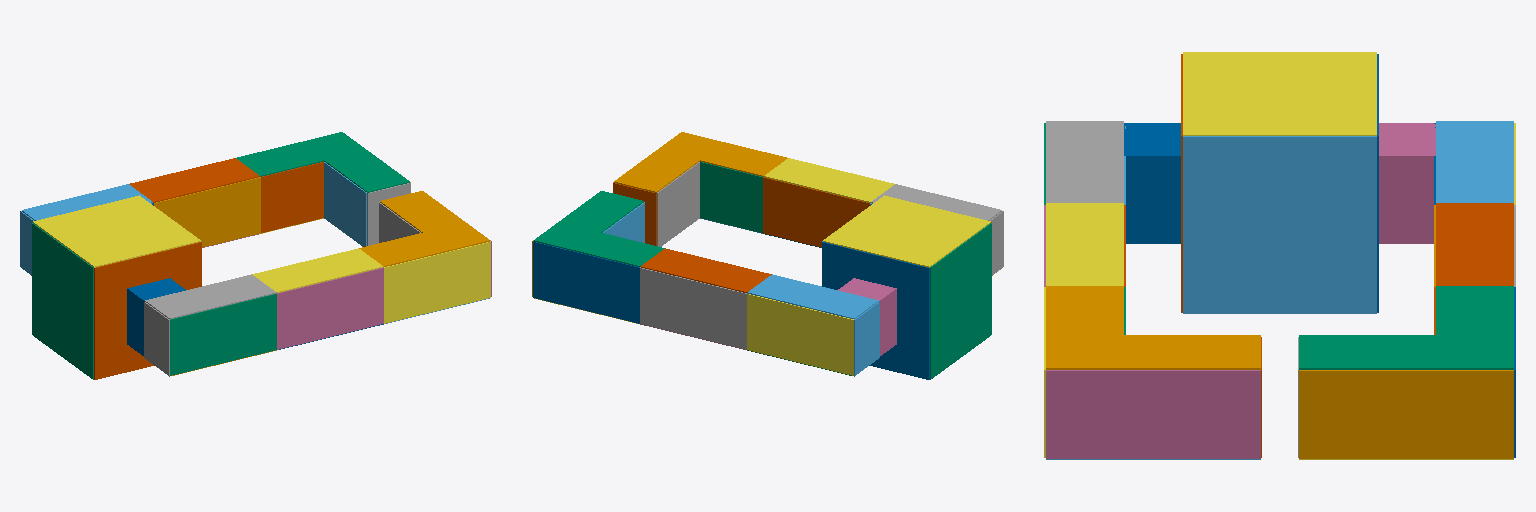
--- Render facts (derived) ---
3 views of the same robot in one strip: view 1: azimuth 30°, elevation 25°; view 2: azimuth 150°, elevation 25°; view 3: azimuth 270°, elevation 25° (orthographic).
Model robot with 72 links and 71 joints (2 continuous, 69 fixed), rooted at body, posed all joints at 0.
Visible links, largest first — view 1: body_sensor_0_stop, body_sensor_0_right, body_sensor_0_top, right_arm_sensor_0_right, right_arm_sensor_1_right, right_arm_sensor_2_right, left_arm_sensor_1_right, left_arm_sensor_2_right, right_arm_sensor_0_top, right_arm_sensor_2_top, left_arm_sensor_1_top, right_arm_sensor_1_top (+10 smaller); view 2: body_sensor_0_stop, body_sensor_0_left, body_sensor_0_top, left_arm_sensor_0_left, left_arm_sensor_1_left, left_arm_sensor_2_left, right_arm_sensor_1_left, right_arm_sensor_2_left, left_arm_sensor_0_top, left_arm_sensor_2_top, left_arm_sensor_1_top, right_arm_sensor_1_top (+10 smaller); view 3: body_sensor_0_start, body_sensor_0_top, left_hand_sensor_0_top, right_hand_sensor_0_top, left_arm_sensor_0_start, right_arm_sensor_0_start, left_shoulder, right_shoulder, left_arm_sensor_2_top, right_arm_sensor_2_top, left_arm_sensor_1_top, right_arm_sensor_1_top (+4 smaller).
Link boxes in pixels (bbox=[...]): body_sensor_0_stop: bbox=[32, 223, 93, 379]; body_sensor_0_right: bbox=[94, 242, 201, 379]; body_sensor_0_top: bbox=[33, 195, 200, 267]; right_arm_sensor_0_right: bbox=[170, 294, 276, 375]; right_arm_sensor_1_right: bbox=[277, 267, 383, 349]; right_arm_sensor_2_right: bbox=[384, 241, 490, 323]; left_arm_sensor_1_right: bbox=[154, 177, 260, 247]; left_arm_sensor_2_right: bbox=[261, 162, 323, 232]; right_arm_sensor_0_top: bbox=[145, 274, 276, 318]; right_arm_sensor_2_top: bbox=[359, 222, 489, 266]; left_arm_sensor_1_top: bbox=[129, 158, 259, 202]; right_arm_sensor_1_top: bbox=[252, 248, 383, 292]; body_sensor_0_stop: bbox=[930, 223, 991, 379]; body_sensor_0_left: bbox=[822, 242, 929, 379]; body_sensor_0_top: bbox=[823, 195, 990, 267]; left_arm_sensor_0_left: bbox=[747, 294, 853, 375]; left_arm_sensor_1_left: bbox=[640, 267, 746, 349]; left_arm_sensor_2_left: bbox=[533, 241, 639, 323]; right_arm_sensor_1_left: bbox=[763, 177, 869, 247]; right_arm_sensor_2_left: bbox=[700, 162, 762, 232]; left_arm_sensor_0_top: bbox=[747, 274, 878, 318]; left_arm_sensor_2_top: bbox=[534, 222, 664, 266]; left_arm_sensor_1_top: bbox=[640, 248, 771, 292]; right_arm_sensor_1_top: bbox=[764, 158, 894, 202]; body_sensor_0_start: bbox=[1183, 136, 1376, 313]; body_sensor_0_top: bbox=[1183, 52, 1376, 135]; left_hand_sensor_0_top: bbox=[1299, 370, 1435, 458]; right_hand_sensor_0_top: bbox=[1124, 370, 1260, 458]; left_arm_sensor_0_start: bbox=[1436, 370, 1513, 458]; right_arm_sensor_0_start: bbox=[1046, 370, 1123, 458]; left_shoulder: bbox=[1379, 123, 1435, 243]; right_shoulder: bbox=[1124, 123, 1180, 243]; left_arm_sensor_2_top: bbox=[1436, 286, 1513, 369]; right_arm_sensor_2_top: bbox=[1046, 286, 1123, 369]; left_arm_sensor_1_top: bbox=[1436, 203, 1513, 285]; right_arm_sensor_1_top: bbox=[1046, 203, 1123, 285].
Bounding box of the posed robot: 3.32 × 2.42 × 1.01 m (x, y, z).
Geometry: primitives only (box / cylinder / sphere), no mesh files.

URDF robot description (robot):
<?xml version="1.0"?>
<robot name="robot">


    <!-- body -->
    <link name="body">
        <inertial>
            <origin xyz="0 0 0" rpy="0 0 0"/>
            <mass value="100"/>
            <inertia ixx=".1" ixy=".1" ixz=".1" iyy=".1" iyz=".1" izz=".1"/>
        </inertial>
        <visual>
            <origin xyz="0 0 0" rpy="0 0 0"/>
            <geometry>
                <box size="1 1 1"/>
            </geometry>
        </visual>
        <collision>
            <origin xyz="0 0 0" rpy="0 0 0"/>
            <geometry>
                <box size="1 1 1"/>
            </geometry>
        </collision>
    </link>


    <!-- body_sensor_0_start -->
    <link name="body_sensor_0_start">
        <inertial>
            <origin xyz="0 0 0" rpy="0 0 0"/>
            <mass value="0"/>
            <inertia ixx=".1" ixy=".1" ixz=".1" iyy=".1" iyz=".1" izz=".1"/>
        </inertial>
        <visual>
            <origin xyz="0 0 0" rpy="0 0 0"/>
            <geometry>
                <box size="0.02 1 1"/>
            </geometry>
        </visual>
        <collision>
            <origin xyz="0 0 0" rpy="0 0 0"/>
            <geometry>
                <box size="0.02 1 1"/>
            </geometry>
        </collision>
    </link>


    <!-- Joint: body, body_sensor_0_start -->
    <joint name="body_body_sensor_0_start_joint" type="fixed"> 
        <parent link="body"/> 
        <child link="body_sensor_0_start"/> 
        <origin xyz="0.5 0 0" rpy="0 0 0"/> 
        <axis xyz="1 0 0"/> 
    </joint>


    <!-- body_sensor_0_stop -->
    <link name="body_sensor_0_stop">
        <inertial>
            <origin xyz="0 0 0" rpy="0 0 0"/>
            <mass value="0"/>
            <inertia ixx=".1" ixy=".1" ixz=".1" iyy=".1" iyz=".1" izz=".1"/>
        </inertial>
        <visual>
            <origin xyz="0 0 0" rpy="0 0 0"/>
            <geometry>
                <box size="0.02 1 1"/>
            </geometry>
        </visual>
        <collision>
            <origin xyz="0 0 0" rpy="0 0 0"/>
            <geometry>
                <box size="0.02 1 1"/>
            </geometry>
        </collision>
    </link>


    <!-- Joint: body, body_sensor_0_stop -->
    <joint name="body_body_sensor_0_stop_joint" type="fixed"> 
        <parent link="body"/> 
        <child link="body_sensor_0_stop"/> 
        <origin xyz="-0.5 0 0" rpy="0 0 0"/> 
        <axis xyz="1 0 0"/> 
    </joint>


    <!-- body_sensor_0_top -->
    <link name="body_sensor_0_top">
        <inertial>
            <origin xyz="0 0 0" rpy="0 0 0"/>
            <mass value="0"/>
            <inertia ixx=".1" ixy=".1" ixz=".1" iyy=".1" iyz=".1" izz=".1"/>
        </inertial>
        <visual>
            <origin xyz="0 0 0" rpy="0 0 0"/>
            <geometry>
                <box size="1.0 1 0.02"/>
            </geometry>
        </visual>
        <collision>
            <origin xyz="0 0 0" rpy="0 0 0"/>
            <geometry>
                <box size="1.0 1 0.02"/>
            </geometry>
        </collision>
    </link>


    <!-- Joint: body, body_sensor_0_top -->
    <joint name="body_body_sensor_0_top_joint" type="fixed"> 
        <parent link="body"/> 
        <child link="body_sensor_0_top"/> 
        <origin xyz="0 0 0.5" rpy="0 0 0"/> 
        <axis xyz="1 0 0"/> 
    </joint>


    <!-- body_sensor_0_left -->
    <link name="body_sensor_0_left">
        <inertial>
            <origin xyz="0 0 0" rpy="0 0 0"/>
            <mass value="0"/>
            <inertia ixx=".1" ixy=".1" ixz=".1" iyy=".1" iyz=".1" izz=".1"/>
        </inertial>
        <visual>
            <origin xyz="0 0 0" rpy="0 0 0"/>
            <geometry>
                <box size="1.0 0.02 1"/>
            </geometry>
        </visual>
        <collision>
            <origin xyz="0 0 0" rpy="0 0 0"/>
            <geometry>
                <box size="1.0 0.02 1"/>
            </geometry>
        </collision>
    </link>


    <!-- Joint: body, body_sensor_0_left -->
    <joint name="body_body_sensor_0_left_joint" type="fixed"> 
        <parent link="body"/> 
        <child link="body_sensor_0_left"/> 
        <origin xyz="0 0.5 0" rpy="0 0 0"/> 
        <axis xyz="1 0 0"/> 
    </joint>


    <!-- body_sensor_0_right -->
    <link name="body_sensor_0_right">
        <inertial>
            <origin xyz="0 0 0" rpy="0 0 0"/>
            <mass value="0"/>
            <inertia ixx=".1" ixy=".1" ixz=".1" iyy=".1" iyz=".1" izz=".1"/>
        </inertial>
        <visual>
            <origin xyz="0 0 0" rpy="0 0 0"/>
            <geometry>
                <box size="1.0 0.02 1"/>
            </geometry>
        </visual>
        <collision>
            <origin xyz="0 0 0" rpy="0 0 0"/>
            <geometry>
                <box size="1.0 0.02 1"/>
            </geometry>
        </collision>
    </link>


    <!-- Joint: body, body_sensor_0_right -->
    <joint name="body_body_sensor_0_right_joint" type="fixed"> 
        <parent link="body"/> 
        <child link="body_sensor_0_right"/> 
        <origin xyz="0 -0.5 0" rpy="0 0 0"/> 
        <axis xyz="1 0 0"/> 
    </joint>


    <!-- left_shoulder -->
    <link name="left_shoulder">
        <inertial>
            <origin xyz="0 0 0" rpy="0 0 0"/>
            <mass value="0.1"/>
            <inertia ixx=".1" ixy=".1" ixz=".1" iyy=".1" iyz=".1" izz=".1"/>
        </inertial>
        <visual>
            <origin xyz="0 0 0" rpy="0 0 0"/>
            <geometry>
                <box size="0.4 0.3 0.5"/>
            </geometry>
        </visual>
        <collision>
            <origin xyz="0 0 0" rpy="0 0 0"/>
            <geometry>
                <box size="0.4 0.3 0.5"/>
            </geometry>
        </collision>
    </link>


    <!-- Joint: body, left_shoulder -->
    <joint name="body_left_shoulder_joint" type="continuous"> 
        <parent link="body"/> 
        <child link="left_shoulder"/> 
        <origin xyz="0 0.65 0" rpy="0 0 0"/> 
        <axis xyz="0 -1 0"/> 
    </joint>


    <!-- left_arm -->
    <link name="left_arm">
        <inertial>
            <origin xyz="0 0 0" rpy="0 0 0"/>
            <mass value="0.1"/>
            <inertia ixx=".1" ixy=".1" ixz=".1" iyy=".1" iyz=".1" izz=".1"/>
        </inertial>
        <visual>
            <origin xyz="0 0 0" rpy="0 0 0"/>
            <geometry>
                <box size="3 0.4 0.5"/>
            </geometry>
        </visual>
        <collision>
            <origin xyz="0 0 0" rpy="0 0 0"/>
            <geometry>
                <box size="3 0.4 0.5"/>
            </geometry>
        </collision>
    </link>


    <!-- left_arm_sensor_0_start -->
    <link name="left_arm_sensor_0_start">
        <inertial>
            <origin xyz="0 0 0" rpy="0 0 0"/>
            <mass value="0"/>
            <inertia ixx=".1" ixy=".1" ixz=".1" iyy=".1" iyz=".1" izz=".1"/>
        </inertial>
        <visual>
            <origin xyz="0 0 0" rpy="0 0 0"/>
            <geometry>
                <box size="0.02 0.4 0.5"/>
            </geometry>
        </visual>
        <collision>
            <origin xyz="0 0 0" rpy="0 0 0"/>
            <geometry>
                <box size="0.02 0.4 0.5"/>
            </geometry>
        </collision>
    </link>


    <!-- Joint: left_arm, left_arm_sensor_0_start -->
    <joint name="left_arm_left_arm_sensor_0_start_joint" type="fixed"> 
        <parent link="left_arm"/> 
        <child link="left_arm_sensor_0_start"/> 
        <origin xyz="1.5 0 0" rpy="0 0 0"/> 
        <axis xyz="1 0 0"/> 
    </joint>


    <!-- left_arm_sensor_0_top -->
    <link name="left_arm_sensor_0_top">
        <inertial>
            <origin xyz="0 0 0" rpy="0 0 0"/>
            <mass value="0"/>
            <inertia ixx=".1" ixy=".1" ixz=".1" iyy=".1" iyz=".1" izz=".1"/>
        </inertial>
        <visual>
            <origin xyz="0 0 0" rpy="0 0 0"/>
            <geometry>
                <box size="1.0 0.4 0.02"/>
            </geometry>
        </visual>
        <collision>
            <origin xyz="0 0 0" rpy="0 0 0"/>
            <geometry>
                <box size="1.0 0.4 0.02"/>
            </geometry>
        </collision>
    </link>


    <!-- Joint: left_arm, left_arm_sensor_0_top -->
    <joint name="left_arm_left_arm_sensor_0_top_joint" type="fixed"> 
        <parent link="left_arm"/> 
        <child link="left_arm_sensor_0_top"/> 
        <origin xyz="-1.0 0 0.25" rpy="0 0 0"/> 
        <axis xyz="1 0 0"/> 
    </joint>


    <!-- left_arm_sensor_0_bottom -->
    <link name="left_arm_sensor_0_bottom">
        <inertial>
            <origin xyz="0 0 0" rpy="0 0 0"/>
            <mass value="0"/>
            <inertia ixx=".1" ixy=".1" ixz=".1" iyy=".1" iyz=".1" izz=".1"/>
        </inertial>
        <visual>
            <origin xyz="0 0 0" rpy="0 0 0"/>
            <geometry>
                <box size="1.0 0.4 0.02"/>
            </geometry>
        </visual>
        <collision>
            <origin xyz="0 0 0" rpy="0 0 0"/>
            <geometry>
                <box size="1.0 0.4 0.02"/>
            </geometry>
        </collision>
    </link>


    <!-- Joint: left_arm, left_arm_sensor_0_bottom -->
    <joint name="left_arm_left_arm_sensor_0_bottom_joint" type="fixed"> 
        <parent link="left_arm"/> 
        <child link="left_arm_sensor_0_bottom"/> 
        <origin xyz="-1.0 0 -0.25" rpy="0 0 0"/> 
        <axis xyz="1 0 0"/> 
    </joint>


    <!-- left_arm_sensor_0_left -->
    <link name="left_arm_sensor_0_left">
        <inertial>
            <origin xyz="0 0 0" rpy="0 0 0"/>
            <mass value="0"/>
            <inertia ixx=".1" ixy=".1" ixz=".1" iyy=".1" iyz=".1" izz=".1"/>
        </inertial>
        <visual>
            <origin xyz="0 0 0" rpy="0 0 0"/>
            <geometry>
                <box size="1.0 0.02 0.5"/>
            </geometry>
        </visual>
        <collision>
            <origin xyz="0 0 0" rpy="0 0 0"/>
            <geometry>
                <box size="1.0 0.02 0.5"/>
            </geometry>
        </collision>
    </link>


    <!-- Joint: left_arm, left_arm_sensor_0_left -->
    <joint name="left_arm_left_arm_sensor_0_left_joint" type="fixed"> 
        <parent link="left_arm"/> 
        <child link="left_arm_sensor_0_left"/> 
        <origin xyz="-1.0 0.2 0" rpy="0 0 0"/> 
        <axis xyz="1 0 0"/> 
    </joint>


    <!-- left_arm_sensor_0_right -->
    <link name="left_arm_sensor_0_right">
        <inertial>
            <origin xyz="0 0 0" rpy="0 0 0"/>
            <mass value="0"/>
            <inertia ixx=".1" ixy=".1" ixz=".1" iyy=".1" iyz=".1" izz=".1"/>
        </inertial>
        <visual>
            <origin xyz="0 0 0" rpy="0 0 0"/>
            <geometry>
                <box size="1.0 0.02 0.5"/>
            </geometry>
        </visual>
        <collision>
            <origin xyz="0 0 0" rpy="0 0 0"/>
            <geometry>
                <box size="1.0 0.02 0.5"/>
            </geometry>
        </collision>
    </link>


    <!-- Joint: left_arm, left_arm_sensor_0_right -->
    <joint name="left_arm_left_arm_sensor_0_right_joint" type="fixed"> 
        <parent link="left_arm"/> 
        <child link="left_arm_sensor_0_right"/> 
        <origin xyz="-1.0 -0.2 0" rpy="0 0 0"/> 
        <axis xyz="1 0 0"/> 
    </joint>


    <!-- left_arm_sensor_1_top -->
    <link name="left_arm_sensor_1_top">
        <inertial>
            <origin xyz="0 0 0" rpy="0 0 0"/>
            <mass value="0"/>
            <inertia ixx=".1" ixy=".1" ixz=".1" iyy=".1" iyz=".1" izz=".1"/>
        </inertial>
        <visual>
            <origin xyz="0 0 0" rpy="0 0 0"/>
            <geometry>
                <box size="1.0 0.4 0.02"/>
            </geometry>
        </visual>
        <collision>
            <origin xyz="0 0 0" rpy="0 0 0"/>
            <geometry>
                <box size="1.0 0.4 0.02"/>
            </geometry>
        </collision>
    </link>


    <!-- Joint: left_arm, left_arm_sensor_1_top -->
    <joint name="left_arm_left_arm_sensor_1_top_joint" type="fixed"> 
        <parent link="left_arm"/> 
        <child link="left_arm_sensor_1_top"/> 
        <origin xyz="0.0 0 0.25" rpy="0 0 0"/> 
        <axis xyz="1 0 0"/> 
    </joint>


    <!-- left_arm_sensor_1_bottom -->
    <link name="left_arm_sensor_1_bottom">
        <inertial>
            <origin xyz="0 0 0" rpy="0 0 0"/>
            <mass value="0"/>
            <inertia ixx=".1" ixy=".1" ixz=".1" iyy=".1" iyz=".1" izz=".1"/>
        </inertial>
        <visual>
            <origin xyz="0 0 0" rpy="0 0 0"/>
            <geometry>
                <box size="1.0 0.4 0.02"/>
            </geometry>
        </visual>
        <collision>
            <origin xyz="0 0 0" rpy="0 0 0"/>
            <geometry>
                <box size="1.0 0.4 0.02"/>
            </geometry>
        </collision>
    </link>


    <!-- Joint: left_arm, left_arm_sensor_1_bottom -->
    <joint name="left_arm_left_arm_sensor_1_bottom_joint" type="fixed"> 
        <parent link="left_arm"/> 
        <child link="left_arm_sensor_1_bottom"/> 
        <origin xyz="0.0 0 -0.25" rpy="0 0 0"/> 
        <axis xyz="1 0 0"/> 
    </joint>


    <!-- left_arm_sensor_1_left -->
    <link name="left_arm_sensor_1_left">
        <inertial>
            <origin xyz="0 0 0" rpy="0 0 0"/>
            <mass value="0"/>
            <inertia ixx=".1" ixy=".1" ixz=".1" iyy=".1" iyz=".1" izz=".1"/>
        </inertial>
        <visual>
            <origin xyz="0 0 0" rpy="0 0 0"/>
            <geometry>
                <box size="1.0 0.02 0.5"/>
            </geometry>
        </visual>
        <collision>
            <origin xyz="0 0 0" rpy="0 0 0"/>
            <geometry>
                <box size="1.0 0.02 0.5"/>
            </geometry>
        </collision>
    </link>


    <!-- Joint: left_arm, left_arm_sensor_1_left -->
    <joint name="left_arm_left_arm_sensor_1_left_joint" type="fixed"> 
        <parent link="left_arm"/> 
        <child link="left_arm_sensor_1_left"/> 
        <origin xyz="0.0 0.2 0" rpy="0 0 0"/> 
        <axis xyz="1 0 0"/> 
    </joint>


    <!-- left_arm_sensor_1_right -->
    <link name="left_arm_sensor_1_right">
        <inertial>
            <origin xyz="0 0 0" rpy="0 0 0"/>
            <mass value="0"/>
            <inertia ixx=".1" ixy=".1" ixz=".1" iyy=".1" iyz=".1" izz=".1"/>
        </inertial>
        <visual>
            <origin xyz="0 0 0" rpy="0 0 0"/>
            <geometry>
                <box size="1.0 0.02 0.5"/>
            </geometry>
        </visual>
        <collision>
            <origin xyz="0 0 0" rpy="0 0 0"/>
            <geometry>
                <box size="1.0 0.02 0.5"/>
            </geometry>
        </collision>
    </link>


    <!-- Joint: left_arm, left_arm_sensor_1_right -->
    <joint name="left_arm_left_arm_sensor_1_right_joint" type="fixed"> 
        <parent link="left_arm"/> 
        <child link="left_arm_sensor_1_right"/> 
        <origin xyz="0.0 -0.2 0" rpy="0 0 0"/> 
        <axis xyz="1 0 0"/> 
    </joint>


    <!-- left_arm_sensor_2_stop -->
    <link name="left_arm_sensor_2_stop">
        <inertial>
            <origin xyz="0 0 0" rpy="0 0 0"/>
            <mass value="0"/>
            <inertia ixx=".1" ixy=".1" ixz=".1" iyy=".1" iyz=".1" izz=".1"/>
        </inertial>
        <visual>
            <origin xyz="0 0 0" rpy="0 0 0"/>
            <geometry>
                <box size="0.02 0.4 0.5"/>
            </geometry>
        </visual>
        <collision>
            <origin xyz="0 0 0" rpy="0 0 0"/>
            <geometry>
                <box size="0.02 0.4 0.5"/>
            </geometry>
        </collision>
    </link>


    <!-- Joint: left_arm, left_arm_sensor_2_stop -->
    <joint name="left_arm_left_arm_sensor_2_stop_joint" type="fixed"> 
        <parent link="left_arm"/> 
        <child link="left_arm_sensor_2_stop"/> 
        <origin xyz="-1.5 0 0" rpy="0 0 0"/> 
        <axis xyz="1 0 0"/> 
    </joint>


    <!-- left_arm_sensor_2_top -->
    <link name="left_arm_sensor_2_top">
        <inertial>
            <origin xyz="0 0 0" rpy="0 0 0"/>
            <mass value="0"/>
            <inertia ixx=".1" ixy=".1" ixz=".1" iyy=".1" iyz=".1" izz=".1"/>
        </inertial>
        <visual>
            <origin xyz="0 0 0" rpy="0 0 0"/>
            <geometry>
                <box size="1.0 0.4 0.02"/>
            </geometry>
        </visual>
        <collision>
            <origin xyz="0 0 0" rpy="0 0 0"/>
            <geometry>
                <box size="1.0 0.4 0.02"/>
            </geometry>
        </collision>
    </link>


    <!-- Joint: left_arm, left_arm_sensor_2_top -->
    <joint name="left_arm_left_arm_sensor_2_top_joint" type="fixed"> 
        <parent link="left_arm"/> 
        <child link="left_arm_sensor_2_top"/> 
        <origin xyz="1.0 0 0.25" rpy="0 0 0"/> 
        <axis xyz="1 0 0"/> 
    </joint>


    <!-- left_arm_sensor_2_bottom -->
    <link name="left_arm_sensor_2_bottom">
        <inertial>
            <origin xyz="0 0 0" rpy="0 0 0"/>
            <mass value="0"/>
            <inertia ixx=".1" ixy=".1" ixz=".1" iyy=".1" iyz=".1" izz=".1"/>
        </inertial>
        <visual>
            <origin xyz="0 0 0" rpy="0 0 0"/>
            <geometry>
                <box size="1.0 0.4 0.02"/>
            </geometry>
        </visual>
        <collision>
            <origin xyz="0 0 0" rpy="0 0 0"/>
            <geometry>
                <box size="1.0 0.4 0.02"/>
            </geometry>
        </collision>
    </link>


    <!-- Joint: left_arm, left_arm_sensor_2_bottom -->
    <joint name="left_arm_left_arm_sensor_2_bottom_joint" type="fixed"> 
        <parent link="left_arm"/> 
        <child link="left_arm_sensor_2_bottom"/> 
        <origin xyz="1.0 0 -0.25" rpy="0 0 0"/> 
        <axis xyz="1 0 0"/> 
    </joint>


    <!-- left_arm_sensor_2_left -->
    <link name="left_arm_sensor_2_left">
        <inertial>
            <origin xyz="0 0 0" rpy="0 0 0"/>
            <mass value="0"/>
            <inertia ixx=".1" ixy=".1" ixz=".1" iyy=".1" iyz=".1" izz=".1"/>
        </inertial>
        <visual>
            <origin xyz="0 0 0" rpy="0 0 0"/>
            <geometry>
                <box size="1.0 0.02 0.5"/>
            </geometry>
        </visual>
        <collision>
            <origin xyz="0 0 0" rpy="0 0 0"/>
            <geometry>
                <box size="1.0 0.02 0.5"/>
            </geometry>
        </collision>
    </link>


    <!-- Joint: left_arm, left_arm_sensor_2_left -->
    <joint name="left_arm_left_arm_sensor_2_left_joint" type="fixed"> 
        <parent link="left_arm"/> 
        <child link="left_arm_sensor_2_left"/> 
        <origin xyz="1.0 0.2 0" rpy="0 0 0"/> 
        <axis xyz="1 0 0"/> 
    </joint>


    <!-- left_arm_sensor_2_right -->
    <link name="left_arm_sensor_2_right">
        <inertial>
            <origin xyz="0 0 0" rpy="0 0 0"/>
            <mass value="0"/>
            <inertia ixx=".1" ixy=".1" ixz=".1" iyy=".1" iyz=".1" izz=".1"/>
        </inertial>
        <visual>
            <origin xyz="0 0 0" rpy="0 0 0"/>
            <geometry>
                <box size="1.0 0.02 0.5"/>
            </geometry>
        </visual>
        <collision>
            <origin xyz="0 0 0" rpy="0 0 0"/>
            <geometry>
                <box size="1.0 0.02 0.5"/>
            </geometry>
        </collision>
    </link>


    <!-- Joint: left_arm, left_arm_sensor_2_right -->
    <joint name="left_arm_left_arm_sensor_2_right_joint" type="fixed"> 
        <parent link="left_arm"/> 
        <child link="left_arm_sensor_2_right"/> 
        <origin xyz="1.0 -0.2 0" rpy="0 0 0"/> 
        <axis xyz="1 0 0"/> 
    </joint>


    <!-- Joint: left_shoulder, left_arm -->
    <joint name="left_shoulder_left_arm_joint" type="fixed"> 
        <parent link="left_shoulder"/> 
        <child link="left_arm"/> 
        <origin xyz="1.3 0.35 0" rpy="0 0 0"/> 
        <axis xyz="1 0 0"/> 
    </joint>


    <!-- left_hand -->
    <link name="left_hand">
        <inertial>
            <origin xyz="0 0 0" rpy="0 0 0"/>
            <mass value="0.1"/>
            <inertia ixx=".1" ixy=".1" ixz=".1" iyy=".1" iyz=".1" izz=".1"/>
        </inertial>
        <visual>
            <origin xyz="0 0 0" rpy="0 0 0"/>
            <geometry>
                <box size="0.4 0.7 0.5"/>
            </geometry>
        </visual>
        <collision>
            <origin xyz="0 0 0" rpy="0 0 0"/>
            <geometry>
                <box size="0.4 0.7 0.5"/>
            </geometry>
        </collision>
    </link>


    <!-- left_hand_sensor_0_stop -->
    <link name="left_hand_sensor_0_stop">
        <inertial>
            <origin xyz="0 0 0" rpy="0 0 0"/>
            <mass value="0"/>
            <inertia ixx=".1" ixy=".1" ixz=".1" iyy=".1" iyz=".1" izz=".1"/>
        </inertial>
        <visual>
            <origin xyz="0 0 0" rpy="0 0 0"/>
            <geometry>
                <box size="0.4 0.02 0.5"/>
            </geometry>
        </visual>
        <collision>
            <origin xyz="0 0 0" rpy="0 0 0"/>
            <geometry>
                <box size="0.4 0.02 0.5"/>
            </geometry>
        </collision>
    </link>


    <!-- Joint: left_hand, left_hand_sensor_0_stop -->
    <joint name="left_hand_left_hand_sensor_0_stop_joint" type="fixed"> 
        <parent link="left_hand"/> 
        <child link="left_hand_sensor_0_stop"/> 
        <origin xyz="0 -0.35 0" rpy="0 0 0"/> 
        <axis xyz="0 0 1"/> 
    </joint>


    <!-- left_hand_sensor_0_top -->
    <link name="left_hand_sensor_0_top">
        <inertial>
            <origin xyz="0 0 0" rpy="0 0 0"/>
            <mass value="0"/>
            <inertia ixx=".1" ixy=".1" ixz=".1" iyy=".1" iyz=".1" izz=".1"/>
        </inertial>
        <visual>
            <origin xyz="0 0 0" rpy="0 0 0"/>
            <geometry>
                <box size="0.02 0.7 0.5"/>
            </geometry>
        </visual>
        <collision>
            <origin xyz="0 0 0" rpy="0 0 0"/>
            <geometry>
                <box size="0.02 0.7 0.5"/>
            </geometry>
        </collision>
    </link>


    <!-- Joint: left_hand, left_hand_sensor_0_top -->
    <joint name="left_hand_left_hand_sensor_0_top_joint" type="fixed"> 
        <parent link="left_hand"/> 
        <child link="left_hand_sensor_0_top"/> 
        <origin xyz="0.2 0 0" rpy="0 0 0"/> 
        <axis xyz="0 0 1"/> 
    </joint>


    <!-- left_hand_sensor_0_bottom -->
    <link name="left_hand_sensor_0_bottom">
        <inertial>
            <origin xyz="0 0 0" rpy="0 0 0"/>
            <mass value="0"/>
            <inertia ixx=".1" ixy=".1" ixz=".1" iyy=".1" iyz=".1" izz=".1"/>
        </inertial>
        <visual>
            <origin xyz="0 0 0" rpy="0 0 0"/>
            <geometry>
                <box size="0.02 0.7 0.5"/>
            </geometry>
        </visual>
        <collision>
            <origin xyz="0 0 0" rpy="0 0 0"/>
            <geometry>
                <box size="0.02 0.7 0.5"/>
            </geometry>
        </collision>
    </link>


    <!-- Joint: left_hand, left_hand_sensor_0_bottom -->
    <joint name="left_hand_left_hand_sensor_0_bottom_joint" type="fixed"> 
        <parent link="left_hand"/> 
        <child link="left_hand_sensor_0_bottom"/> 
        <origin xyz="-0.2 0 0" rpy="0 0 0"/> 
        <axis xyz="0 0 1"/> 
    </joint>


    <!-- left_hand_sensor_0_left -->
    <link name="left_hand_sensor_0_left">
        <inertial>
            <origin xyz="0 0 0" rpy="0 0 0"/>
            <mass value="0"/>
            <inertia ixx=".1" ixy=".1" ixz=".1" iyy=".1" iyz=".1" izz=".1"/>
        </inertial>
        <visual>
            <origin xyz="0 0 0" rpy="0 0 0"/>
            <geometry>
                <box size="0.4 0.7 0.02"/>
            </geometry>
        </visual>
        <collision>
            <origin xyz="0 0 0" rpy="0 0 0"/>
            <geometry>
                <box size="0.4 0.7 0.02"/>
            </geometry>
        </collision>
    </link>


    <!-- Joint: left_hand, left_hand_sensor_0_left -->
    <joint name="left_hand_left_hand_sensor_0_left_joint" type="fixed"> 
        <parent link="left_hand"/> 
        <child link="left_hand_sensor_0_left"/> 
        <origin xyz="0 0 0.25" rpy="0 0 0"/> 
        <axis xyz="0 0 1"/> 
    </joint>


    <!-- left_hand_sensor_0_right -->
    <link name="left_hand_sensor_0_right">
        <inertial>
            <origin xyz="0 0 0" rpy="0 0 0"/>
            <mass value="0"/>
            <inertia ixx=".1" ixy=".1" ixz=".1" iyy=".1" iyz=".1" izz=".1"/>
        </inertial>
        <visual>
            <origin xyz="0 0 0" rpy="0 0 0"/>
            <geometry>
                <box size="0.4 0.7 0.02"/>
            </geometry>
        </visual>
        <collision>
            <origin xyz="0 0 0" rpy="0 0 0"/>
            <geometry>
                <box size="0.4 0.7 0.02"/>
            </geometry>
        </collision>
    </link>


    <!-- Joint: left_hand, left_hand_sensor_0_right -->
    <joint name="left_hand_left_hand_sensor_0_right_joint" type="fixed"> 
        <parent link="left_hand"/> 
        <child link="left_hand_sensor_0_right"/> 
        <origin xyz="0 0 -0.25" rpy="0 0 0"/> 
        <axis xyz="0 0 1"/> 
    </joint>


    <!-- Joint: left_arm, left_hand -->
    <joint name="left_arm_left_hand_joint" type="fixed"> 
        <parent link="left_arm"/> 
        <child link="left_hand"/> 
        <origin xyz="1.3 -0.55 0" rpy="0 0 0"/> 
        <axis xyz="0 0 1"/> 
    </joint>


    <!-- right_shoulder -->
    <link name="right_shoulder">
        <inertial>
            <origin xyz="0 0 0" rpy="0 0 0"/>
            <mass value="0.1"/>
            <inertia ixx=".1" ixy=".1" ixz=".1" iyy=".1" iyz=".1" izz=".1"/>
        </inertial>
        <visual>
            <origin xyz="0 0 0" rpy="0 0 0"/>
            <geometry>
                <box size="0.4 0.3 0.5"/>
            </geometry>
        </visual>
        <collision>
            <origin xyz="0 0 0" rpy="0 0 0"/>
            <geometry>
                <box size="0.4 0.3 0.5"/>
            </geometry>
        </collision>
    </link>


    <!-- Joint: body, right_shoulder -->
    <joint name="body_right_shoulder_joint" type="continuous"> 
        <parent link="body"/> 
        <child link="right_shoulder"/> 
        <origin xyz="0 -0.65 0" rpy="0 0 0"/> 
        <axis xyz="0 -1 0"/> 
    </joint>


    <!-- right_arm -->
    <link name="right_arm">
        <inertial>
            <origin xyz="0 0 0" rpy="0 0 0"/>
            <mass value="0.1"/>
            <inertia ixx=".1" ixy=".1" ixz=".1" iyy=".1" iyz=".1" izz=".1"/>
        </inertial>
        <visual>
            <origin xyz="0 0 0" rpy="0 0 0"/>
            <geometry>
                <box size="3 0.4 0.5"/>
            </geometry>
        </visual>
        <collision>
            <origin xyz="0 0 0" rpy="0 0 0"/>
            <geometry>
                <box size="3 0.4 0.5"/>
            </geometry>
        </collision>
    </link>


    <!-- right_arm_sensor_0_start -->
    <link name="right_arm_sensor_0_start">
        <inertial>
            <origin xyz="0 0 0" rpy="0 0 0"/>
            <mass value="0"/>
            <inertia ixx=".1" ixy=".1" ixz=".1" iyy=".1" iyz=".1" izz=".1"/>
        </inertial>
        <visual>
            <origin xyz="0 0 0" rpy="0 0 0"/>
            <geometry>
                <box size="0.02 0.4 0.5"/>
            </geometry>
        </visual>
        <collision>
            <origin xyz="0 0 0" rpy="0 0 0"/>
            <geometry>
                <box size="0.02 0.4 0.5"/>
            </geometry>
        </collision>
    </link>


    <!-- Joint: right_arm, right_arm_sensor_0_start -->
    <joint name="right_arm_right_arm_sensor_0_start_joint" type="fixed"> 
        <parent link="right_arm"/> 
        <child link="right_arm_sensor_0_start"/> 
        <origin xyz="1.5 0 0" rpy="0 0 0"/> 
        <axis xyz="1 0 0"/> 
    </joint>


    <!-- right_arm_sensor_0_top -->
    <link name="right_arm_sensor_0_top">
        <inertial>
            <origin xyz="0 0 0" rpy="0 0 0"/>
            <mass value="0"/>
            <inertia ixx=".1" ixy=".1" ixz=".1" iyy=".1" iyz=".1" izz=".1"/>
        </inertial>
        <visual>
            <origin xyz="0 0 0" rpy="0 0 0"/>
            <geometry>
                <box size="1.0 0.4 0.02"/>
            </geometry>
        </visual>
        <collision>
            <origin xyz="0 0 0" rpy="0 0 0"/>
            <geometry>
                <box size="1.0 0.4 0.02"/>
            </geometry>
        </collision>
    </link>


    <!-- Joint: right_arm, right_arm_sensor_0_top -->
    <joint name="right_arm_right_arm_sensor_0_top_joint" type="fixed"> 
        <parent link="right_arm"/> 
        <child link="right_arm_sensor_0_top"/> 
        <origin xyz="-1.0 0 0.25" rpy="0 0 0"/> 
        <axis xyz="1 0 0"/> 
    </joint>


    <!-- right_arm_sensor_0_bottom -->
    <link name="right_arm_sensor_0_bottom">
        <inertial>
            <origin xyz="0 0 0" rpy="0 0 0"/>
            <mass value="0"/>
            <inertia ixx=".1" ixy=".1" ixz=".1" iyy=".1" iyz=".1" izz=".1"/>
        </inertial>
        <visual>
            <origin xyz="0 0 0" rpy="0 0 0"/>
            <geometry>
                <box size="1.0 0.4 0.02"/>
            </geometry>
        </visual>
        <collision>
            <origin xyz="0 0 0" rpy="0 0 0"/>
            <geometry>
                <box size="1.0 0.4 0.02"/>
            </geometry>
        </collision>
    </link>


    <!-- Joint: right_arm, right_arm_sensor_0_bottom -->
    <joint name="right_arm_right_arm_sensor_0_bottom_joint" type="fixed"> 
        <parent link="right_arm"/> 
        <child link="right_arm_sensor_0_bottom"/> 
        <origin xyz="-1.0 0 -0.25" rpy="0 0 0"/> 
        <axis xyz="1 0 0"/> 
    </joint>


    <!-- right_arm_sensor_0_left -->
    <link name="right_arm_sensor_0_left">
        <inertial>
            <origin xyz="0 0 0" rpy="0 0 0"/>
            <mass value="0"/>
            <inertia ixx=".1" ixy=".1" ixz=".1" iyy=".1" iyz=".1" izz=".1"/>
        </inertial>
        <visual>
            <origin xyz="0 0 0" rpy="0 0 0"/>
            <geometry>
                <box size="1.0 0.02 0.5"/>
            </geometry>
        </visual>
        <collision>
            <origin xyz="0 0 0" rpy="0 0 0"/>
            <geometry>
                <box size="1.0 0.02 0.5"/>
            </geometry>
        </collision>
    </link>


    <!-- Joint: right_arm, right_arm_sensor_0_left -->
    <joint name="right_arm_right_arm_sensor_0_left_joint" type="fixed"> 
        <parent link="right_arm"/> 
        <child link="right_arm_sensor_0_left"/> 
        <origin xyz="-1.0 0.2 0" rpy="0 0 0"/> 
        <axis xyz="1 0 0"/> 
    </joint>


    <!-- right_arm_sensor_0_right -->
    <link name="right_arm_sensor_0_right">
        <inertial>
            <origin xyz="0 0 0" rpy="0 0 0"/>
            <mass value="0"/>
            <inertia ixx=".1" ixy=".1" ixz=".1" iyy=".1" iyz=".1" izz=".1"/>
        </inertial>
        <visual>
            <origin xyz="0 0 0" rpy="0 0 0"/>
            <geometry>
                <box size="1.0 0.02 0.5"/>
            </geometry>
        </visual>
        <collision>
            <origin xyz="0 0 0" rpy="0 0 0"/>
            <geometry>
                <box size="1.0 0.02 0.5"/>
            </geometry>
        </collision>
    </link>


    <!-- Joint: right_arm, right_arm_sensor_0_right -->
    <joint name="right_arm_right_arm_sensor_0_right_joint" type="fixed"> 
        <parent link="right_arm"/> 
        <child link="right_arm_sensor_0_right"/> 
        <origin xyz="-1.0 -0.2 0" rpy="0 0 0"/> 
        <axis xyz="1 0 0"/> 
    </joint>


    <!-- right_arm_sensor_1_top -->
    <link name="right_arm_sensor_1_top">
        <inertial>
            <origin xyz="0 0 0" rpy="0 0 0"/>
            <mass value="0"/>
            <inertia ixx=".1" ixy=".1" ixz=".1" iyy=".1" iyz=".1" izz=".1"/>
        </inertial>
        <visual>
            <origin xyz="0 0 0" rpy="0 0 0"/>
            <geometry>
                <box size="1.0 0.4 0.02"/>
            </geometry>
        </visual>
        <collision>
            <origin xyz="0 0 0" rpy="0 0 0"/>
            <geometry>
                <box size="1.0 0.4 0.02"/>
            </geometry>
        </collision>
    </link>


    <!-- Joint: right_arm, right_arm_sensor_1_top -->
    <joint name="right_arm_right_arm_sensor_1_top_joint" type="fixed"> 
        <parent link="right_arm"/> 
        <child link="right_arm_sensor_1_top"/> 
        <origin xyz="0.0 0 0.25" rpy="0 0 0"/> 
        <axis xyz="1 0 0"/> 
    </joint>


    <!-- right_arm_sensor_1_bottom -->
    <link name="right_arm_sensor_1_bottom">
        <inertial>
            <origin xyz="0 0 0" rpy="0 0 0"/>
            <mass value="0"/>
            <inertia ixx=".1" ixy=".1" ixz=".1" iyy=".1" iyz=".1" izz=".1"/>
        </inertial>
        <visual>
            <origin xyz="0 0 0" rpy="0 0 0"/>
            <geometry>
                <box size="1.0 0.4 0.02"/>
            </geometry>
        </visual>
        <collision>
            <origin xyz="0 0 0" rpy="0 0 0"/>
            <geometry>
                <box size="1.0 0.4 0.02"/>
            </geometry>
        </collision>
    </link>


    <!-- Joint: right_arm, right_arm_sensor_1_bottom -->
    <joint name="right_arm_right_arm_sensor_1_bottom_joint" type="fixed"> 
        <parent link="right_arm"/> 
        <child link="right_arm_sensor_1_bottom"/> 
        <origin xyz="0.0 0 -0.25" rpy="0 0 0"/> 
        <axis xyz="1 0 0"/> 
    </joint>


    <!-- right_arm_sensor_1_left -->
    <link name="right_arm_sensor_1_left">
        <inertial>
            <origin xyz="0 0 0" rpy="0 0 0"/>
            <mass value="0"/>
            <inertia ixx=".1" ixy=".1" ixz=".1" iyy=".1" iyz=".1" izz=".1"/>
        </inertial>
        <visual>
            <origin xyz="0 0 0" rpy="0 0 0"/>
            <geometry>
                <box size="1.0 0.02 0.5"/>
            </geometry>
        </visual>
        <collision>
            <origin xyz="0 0 0" rpy="0 0 0"/>
            <geometry>
                <box size="1.0 0.02 0.5"/>
            </geometry>
        </collision>
    </link>


    <!-- Joint: right_arm, right_arm_sensor_1_left -->
    <joint name="right_arm_right_arm_sensor_1_left_joint" type="fixed"> 
        <parent link="right_arm"/> 
        <child link="right_arm_sensor_1_left"/> 
        <origin xyz="0.0 0.2 0" rpy="0 0 0"/> 
        <axis xyz="1 0 0"/> 
    </joint>


    <!-- right_arm_sensor_1_right -->
    <link name="right_arm_sensor_1_right">
        <inertial>
            <origin xyz="0 0 0" rpy="0 0 0"/>
            <mass value="0"/>
            <inertia ixx=".1" ixy=".1" ixz=".1" iyy=".1" iyz=".1" izz=".1"/>
        </inertial>
        <visual>
            <origin xyz="0 0 0" rpy="0 0 0"/>
            <geometry>
                <box size="1.0 0.02 0.5"/>
            </geometry>
        </visual>
        <collision>
            <origin xyz="0 0 0" rpy="0 0 0"/>
            <geometry>
                <box size="1.0 0.02 0.5"/>
            </geometry>
        </collision>
    </link>


    <!-- Joint: right_arm, right_arm_sensor_1_right -->
    <joint name="right_arm_right_arm_sensor_1_right_joint" type="fixed"> 
        <parent link="right_arm"/> 
        <child link="right_arm_sensor_1_right"/> 
        <origin xyz="0.0 -0.2 0" rpy="0 0 0"/> 
        <axis xyz="1 0 0"/> 
    </joint>


    <!-- right_arm_sensor_2_stop -->
    <link name="right_arm_sensor_2_stop">
        <inertial>
            <origin xyz="0 0 0" rpy="0 0 0"/>
            <mass value="0"/>
            <inertia ixx=".1" ixy=".1" ixz=".1" iyy=".1" iyz=".1" izz=".1"/>
        </inertial>
        <visual>
            <origin xyz="0 0 0" rpy="0 0 0"/>
            <geometry>
                <box size="0.02 0.4 0.5"/>
            </geometry>
        </visual>
        <collision>
            <origin xyz="0 0 0" rpy="0 0 0"/>
            <geometry>
                <box size="0.02 0.4 0.5"/>
            </geometry>
        </collision>
    </link>


    <!-- Joint: right_arm, right_arm_sensor_2_stop -->
    <joint name="right_arm_right_arm_sensor_2_stop_joint" type="fixed"> 
        <parent link="right_arm"/> 
        <child link="right_arm_sensor_2_stop"/> 
        <origin xyz="-1.5 0 0" rpy="0 0 0"/> 
        <axis xyz="1 0 0"/> 
    </joint>


    <!-- right_arm_sensor_2_top -->
    <link name="right_arm_sensor_2_top">
        <inertial>
            <origin xyz="0 0 0" rpy="0 0 0"/>
            <mass value="0"/>
            <inertia ixx=".1" ixy=".1" ixz=".1" iyy=".1" iyz=".1" izz=".1"/>
        </inertial>
        <visual>
            <origin xyz="0 0 0" rpy="0 0 0"/>
            <geometry>
                <box size="1.0 0.4 0.02"/>
            </geometry>
        </visual>
        <collision>
            <origin xyz="0 0 0" rpy="0 0 0"/>
            <geometry>
                <box size="1.0 0.4 0.02"/>
            </geometry>
        </collision>
    </link>


    <!-- Joint: right_arm, right_arm_sensor_2_top -->
    <joint name="right_arm_right_arm_sensor_2_top_joint" type="fixed"> 
        <parent link="right_arm"/> 
        <child link="right_arm_sensor_2_top"/> 
        <origin xyz="1.0 0 0.25" rpy="0 0 0"/> 
        <axis xyz="1 0 0"/> 
    </joint>


    <!-- right_arm_sensor_2_bottom -->
    <link name="right_arm_sensor_2_bottom">
        <inertial>
            <origin xyz="0 0 0" rpy="0 0 0"/>
            <mass value="0"/>
            <inertia ixx=".1" ixy=".1" ixz=".1" iyy=".1" iyz=".1" izz=".1"/>
        </inertial>
        <visual>
            <origin xyz="0 0 0" rpy="0 0 0"/>
            <geometry>
                <box size="1.0 0.4 0.02"/>
            </geometry>
        </visual>
        <collision>
            <origin xyz="0 0 0" rpy="0 0 0"/>
            <geometry>
                <box size="1.0 0.4 0.02"/>
            </geometry>
        </collision>
    </link>


    <!-- Joint: right_arm, right_arm_sensor_2_bottom -->
    <joint name="right_arm_right_arm_sensor_2_bottom_joint" type="fixed"> 
        <parent link="right_arm"/> 
        <child link="right_arm_sensor_2_bottom"/> 
        <origin xyz="1.0 0 -0.25" rpy="0 0 0"/> 
        <axis xyz="1 0 0"/> 
    </joint>


    <!-- right_arm_sensor_2_left -->
    <link name="right_arm_sensor_2_left">
        <inertial>
            <origin xyz="0 0 0" rpy="0 0 0"/>
            <mass value="0"/>
            <inertia ixx=".1" ixy=".1" ixz=".1" iyy=".1" iyz=".1" izz=".1"/>
        </inertial>
        <visual>
            <origin xyz="0 0 0" rpy="0 0 0"/>
            <geometry>
                <box size="1.0 0.02 0.5"/>
            </geometry>
        </visual>
        <collision>
            <origin xyz="0 0 0" rpy="0 0 0"/>
            <geometry>
                <box size="1.0 0.02 0.5"/>
            </geometry>
        </collision>
    </link>


    <!-- Joint: right_arm, right_arm_sensor_2_left -->
    <joint name="right_arm_right_arm_sensor_2_left_joint" type="fixed"> 
        <parent link="right_arm"/> 
        <child link="right_arm_sensor_2_left"/> 
        <origin xyz="1.0 0.2 0" rpy="0 0 0"/> 
        <axis xyz="1 0 0"/> 
    </joint>


    <!-- right_arm_sensor_2_right -->
    <link name="right_arm_sensor_2_right">
        <inertial>
            <origin xyz="0 0 0" rpy="0 0 0"/>
            <mass value="0"/>
            <inertia ixx=".1" ixy=".1" ixz=".1" iyy=".1" iyz=".1" izz=".1"/>
        </inertial>
        <visual>
            <origin xyz="0 0 0" rpy="0 0 0"/>
            <geometry>
                <box size="1.0 0.02 0.5"/>
            </geometry>
        </visual>
        <collision>
            <origin xyz="0 0 0" rpy="0 0 0"/>
            <geometry>
                <box size="1.0 0.02 0.5"/>
            </geometry>
        </collision>
    </link>


    <!-- Joint: right_arm, right_arm_sensor_2_right -->
    <joint name="right_arm_right_arm_sensor_2_right_joint" type="fixed"> 
        <parent link="right_arm"/> 
        <child link="right_arm_sensor_2_right"/> 
        <origin xyz="1.0 -0.2 0" rpy="0 0 0"/> 
        <axis xyz="1 0 0"/> 
    </joint>


    <!-- Joint: right_shoulder, right_arm -->
    <joint name="right_shoulder_right_arm_joint" type="fixed"> 
        <parent link="right_shoulder"/> 
        <child link="right_arm"/> 
        <origin xyz="1.3 -0.35 0" rpy="0 0 0"/> 
        <axis xyz="1 0 0"/> 
    </joint>


    <!-- right_hand -->
    <link name="right_hand">
        <inertial>
            <origin xyz="0 0 0" rpy="0 0 0"/>
            <mass value="0.1"/>
            <inertia ixx=".1" ixy=".1" ixz=".1" iyy=".1" iyz=".1" izz=".1"/>
        </inertial>
        <visual>
            <origin xyz="0 0 0" rpy="0 0 0"/>
            <geometry>
                <box size="0.4 0.7 0.5"/>
            </geometry>
        </visual>
        <collision>
            <origin xyz="0 0 0" rpy="0 0 0"/>
            <geometry>
                <box size="0.4 0.7 0.5"/>
            </geometry>
        </collision>
    </link>


    <!-- right_hand_sensor_0_start -->
    <link name="right_hand_sensor_0_start">
        <inertial>
            <origin xyz="0 0 0" rpy="0 0 0"/>
            <mass value="0"/>
            <inertia ixx=".1" ixy=".1" ixz=".1" iyy=".1" iyz=".1" izz=".1"/>
        </inertial>
        <visual>
            <origin xyz="0 0 0" rpy="0 0 0"/>
            <geometry>
                <box size="0.4 0.02 0.5"/>
            </geometry>
        </visual>
        <collision>
            <origin xyz="0 0 0" rpy="0 0 0"/>
            <geometry>
                <box size="0.4 0.02 0.5"/>
            </geometry>
        </collision>
    </link>


    <!-- Joint: right_hand, right_hand_sensor_0_start -->
    <joint name="right_hand_right_hand_sensor_0_start_joint" type="fixed"> 
        <parent link="right_hand"/> 
        <child link="right_hand_sensor_0_start"/> 
        <origin xyz="0 0.35 0" rpy="0 0 0"/> 
        <axis xyz="0 0 1"/> 
    </joint>


    <!-- right_hand_sensor_0_top -->
    <link name="right_hand_sensor_0_top">
        <inertial>
            <origin xyz="0 0 0" rpy="0 0 0"/>
            <mass value="0"/>
            <inertia ixx=".1" ixy=".1" ixz=".1" iyy=".1" iyz=".1" izz=".1"/>
        </inertial>
        <visual>
            <origin xyz="0 0 0" rpy="0 0 0"/>
            <geometry>
                <box size="0.02 0.7 0.5"/>
            </geometry>
        </visual>
        <collision>
            <origin xyz="0 0 0" rpy="0 0 0"/>
            <geometry>
                <box size="0.02 0.7 0.5"/>
            </geometry>
        </collision>
    </link>


    <!-- Joint: right_hand, right_hand_sensor_0_top -->
    <joint name="right_hand_right_hand_sensor_0_top_joint" type="fixed"> 
        <parent link="right_hand"/> 
        <child link="right_hand_sensor_0_top"/> 
        <origin xyz="0.2 0 0" rpy="0 0 0"/> 
        <axis xyz="0 0 1"/> 
    </joint>


    <!-- right_hand_sensor_0_bottom -->
    <link name="right_hand_sensor_0_bottom">
        <inertial>
            <origin xyz="0 0 0" rpy="0 0 0"/>
            <mass value="0"/>
            <inertia ixx=".1" ixy=".1" ixz=".1" iyy=".1" iyz=".1" izz=".1"/>
        </inertial>
        <visual>
            <origin xyz="0 0 0" rpy="0 0 0"/>
            <geometry>
                <box size="0.02 0.7 0.5"/>
            </geometry>
        </visual>
        <collision>
            <origin xyz="0 0 0" rpy="0 0 0"/>
            <geometry>
                <box size="0.02 0.7 0.5"/>
            </geometry>
        </collision>
    </link>


    <!-- Joint: right_hand, right_hand_sensor_0_bottom -->
    <joint name="right_hand_right_hand_sensor_0_bottom_joint" type="fixed"> 
        <parent link="right_hand"/> 
        <child link="right_hand_sensor_0_bottom"/> 
        <origin xyz="-0.2 0 0" rpy="0 0 0"/> 
        <axis xyz="0 0 1"/> 
    </joint>


    <!-- right_hand_sensor_0_left -->
    <link name="right_hand_sensor_0_left">
        <inertial>
            <origin xyz="0 0 0" rpy="0 0 0"/>
            <mass value="0"/>
            <inertia ixx=".1" ixy=".1" ixz=".1" iyy=".1" iyz=".1" izz=".1"/>
        </inertial>
        <visual>
            <origin xyz="0 0 0" rpy="0 0 0"/>
            <geometry>
                <box size="0.4 0.7 0.02"/>
            </geometry>
        </visual>
        <collision>
            <origin xyz="0 0 0" rpy="0 0 0"/>
            <geometry>
                <box size="0.4 0.7 0.02"/>
            </geometry>
        </collision>
    </link>


    <!-- Joint: right_hand, right_hand_sensor_0_left -->
    <joint name="right_hand_right_hand_sensor_0_left_joint" type="fixed"> 
        <parent link="right_hand"/> 
        <child link="right_hand_sensor_0_left"/> 
        <origin xyz="0 0 0.25" rpy="0 0 0"/> 
        <axis xyz="0 0 1"/> 
    </joint>


    <!-- right_hand_sensor_0_right -->
    <link name="right_hand_sensor_0_right">
        <inertial>
            <origin xyz="0 0 0" rpy="0 0 0"/>
            <mass value="0"/>
            <inertia ixx=".1" ixy=".1" ixz=".1" iyy=".1" iyz=".1" izz=".1"/>
        </inertial>
        <visual>
            <origin xyz="0 0 0" rpy="0 0 0"/>
            <geometry>
                <box size="0.4 0.7 0.02"/>
            </geometry>
        </visual>
        <collision>
            <origin xyz="0 0 0" rpy="0 0 0"/>
            <geometry>
                <box size="0.4 0.7 0.02"/>
            </geometry>
        </collision>
    </link>


    <!-- Joint: right_hand, right_hand_sensor_0_right -->
    <joint name="right_hand_right_hand_sensor_0_right_joint" type="fixed"> 
        <parent link="right_hand"/> 
        <child link="right_hand_sensor_0_right"/> 
        <origin xyz="0 0 -0.25" rpy="0 0 0"/> 
        <axis xyz="0 0 1"/> 
    </joint>


    <!-- Joint: right_arm, right_hand -->
    <joint name="right_arm_right_hand_joint" type="fixed"> 
        <parent link="right_arm"/> 
        <child link="right_hand"/> 
        <origin xyz="1.3 0.55 0" rpy="0 0 0"/> 
        <axis xyz="0 0 1"/> 
    </joint>


    <!-- body_square_0 -->
    <link name="body_square_0">
        <inertial>
            <origin xyz="0 0 0" rpy="0 0 0"/>
            <mass value="0"/>
            <inertia ixx=".1" ixy=".1" ixz=".1" iyy=".1" iyz=".1" izz=".1"/>
        </inertial>
        <visual>
            <origin xyz="0 0 0" rpy="0 0 0"/>
            <geometry>
                <box size="0.002 0.1111111111111111 0.1111111111111111"/>
            </geometry>
        </visual>
        <collision>
            <origin xyz="0 0 0" rpy="0 0 0"/>
            <geometry>
                <box size="0.002 0.1111111111111111 0.1111111111111111"/>
            </geometry>
        </collision>
    </link>


    <!-- Joint: body, body_square_0 -->
    <joint name="body_body_square_0_joint" type="fixed"> 
        <parent link="body"/> 
        <child link="body_square_0"/> 
        <origin xyz="0.501 -0.33333333333333337 0.11111111111111116" rpy="0 0 0"/> 
        <axis xyz="0 0 1"/> 
    </joint>


    <!-- body_square_1 -->
    <link name="body_square_1">
        <inertial>
            <origin xyz="0 0 0" rpy="0 0 0"/>
            <mass value="0"/>
            <inertia ixx=".1" ixy=".1" ixz=".1" iyy=".1" iyz=".1" izz=".1"/>
        </inertial>
        <visual>
            <origin xyz="0 0 0" rpy="0 0 0"/>
            <geometry>
                <box size="0.002 0.1111111111111111 0.1111111111111111"/>
            </geometry>
        </visual>
        <collision>
            <origin xyz="0 0 0" rpy="0 0 0"/>
            <geometry>
                <box size="0.002 0.1111111111111111 0.1111111111111111"/>
            </geometry>
        </collision>
    </link>


    <!-- Joint: body, body_square_1 -->
    <joint name="body_body_square_1_joint" type="fixed"> 
        <parent link="body"/> 
        <child link="body_square_1"/> 
        <origin xyz="0.501 -0.2222222222222222 0.2222222222222222" rpy="0 0 0"/> 
        <axis xyz="0 0 1"/> 
    </joint>


    <!-- body_square_2 -->
    <link name="body_square_2">
        <inertial>
            <origin xyz="0 0 0" rpy="0 0 0"/>
            <mass value="0"/>
            <inertia ixx=".1" ixy=".1" ixz=".1" iyy=".1" iyz=".1" izz=".1"/>
        </inertial>
        <visual>
            <origin xyz="0 0 0" rpy="0 0 0"/>
            <geometry>
                <box size="0.002 0.1111111111111111 0.1111111111111111"/>
            </geometry>
        </visual>
        <collision>
            <origin xyz="0 0 0" rpy="0 0 0"/>
            <geometry>
                <box size="0.002 0.1111111111111111 0.1111111111111111"/>
            </geometry>
        </collision>
    </link>


    <!-- Joint: body, body_square_2 -->
    <joint name="body_body_square_2_joint" type="fixed"> 
        <parent link="body"/> 
        <child link="body_square_2"/> 
        <origin xyz="0.501 -0.1111111111111111 0.11111111111111116" rpy="0 0 0"/> 
        <axis xyz="0 0 1"/> 
    </joint>


    <!-- body_square_3 -->
    <link name="body_square_3">
        <inertial>
            <origin xyz="0 0 0" rpy="0 0 0"/>
            <mass value="0"/>
            <inertia ixx=".1" ixy=".1" ixz=".1" iyy=".1" iyz=".1" izz=".1"/>
        </inertial>
        <visual>
            <origin xyz="0 0 0" rpy="0 0 0"/>
            <geometry>
                <box size="0.002 0.1111111111111111 0.1111111111111111"/>
            </geometry>
        </visual>
        <collision>
            <origin xyz="0 0 0" rpy="0 0 0"/>
            <geometry>
                <box size="0.002 0.1111111111111111 0.1111111111111111"/>
            </geometry>
        </collision>
    </link>


    <!-- Joint: body, body_square_3 -->
    <joint name="body_body_square_3_joint" type="fixed"> 
        <parent link="body"/> 
        <child link="body_square_3"/> 
        <origin xyz="0.501 -0.1111111111111111 -0.2222222222222222" rpy="0 0 0"/> 
        <axis xyz="0 0 1"/> 
    </joint>


    <!-- body_square_4 -->
    <link name="body_square_4">
        <inertial>
            <origin xyz="0 0 0" rpy="0 0 0"/>
            <mass value="0"/>
            <inertia ixx=".1" ixy=".1" ixz=".1" iyy=".1" iyz=".1" izz=".1"/>
        </inertial>
        <visual>
            <origin xyz="0 0 0" rpy="0 0 0"/>
            <geometry>
                <box size="0.002 0.1111111111111111 0.1111111111111111"/>
            </geometry>
        </visual>
        <collision>
            <origin xyz="0 0 0" rpy="0 0 0"/>
            <geometry>
                <box size="0.002 0.1111111111111111 0.1111111111111111"/>
            </geometry>
        </collision>
    </link>


    <!-- Joint: body, body_square_4 -->
    <joint name="body_body_square_4_joint" type="fixed"> 
        <parent link="body"/> 
        <child link="body_square_4"/> 
        <origin xyz="0.501 0.0 -0.2222222222222222" rpy="0 0 0"/> 
        <axis xyz="0 0 1"/> 
    </joint>


    <!-- body_square_5 -->
    <link name="body_square_5">
        <inertial>
            <origin xyz="0 0 0" rpy="0 0 0"/>
            <mass value="0"/>
            <inertia ixx=".1" ixy=".1" ixz=".1" iyy=".1" iyz=".1" izz=".1"/>
        </inertial>
        <visual>
            <origin xyz="0 0 0" rpy="0 0 0"/>
            <geometry>
                <box size="0.002 0.1111111111111111 0.1111111111111111"/>
            </geometry>
        </visual>
        <collision>
            <origin xyz="0 0 0" rpy="0 0 0"/>
            <geometry>
                <box size="0.002 0.1111111111111111 0.1111111111111111"/>
            </geometry>
        </collision>
    </link>


    <!-- Joint: body, body_square_5 -->
    <joint name="body_body_square_5_joint" type="fixed"> 
        <parent link="body"/> 
        <child link="body_square_5"/> 
        <origin xyz="0.501 0.11111111111111116 0.11111111111111116" rpy="0 0 0"/> 
        <axis xyz="0 0 1"/> 
    </joint>


    <!-- body_square_6 -->
    <link name="body_square_6">
        <inertial>
            <origin xyz="0 0 0" rpy="0 0 0"/>
            <mass value="0"/>
            <inertia ixx=".1" ixy=".1" ixz=".1" iyy=".1" iyz=".1" izz=".1"/>
        </inertial>
        <visual>
            <origin xyz="0 0 0" rpy="0 0 0"/>
            <geometry>
                <box size="0.002 0.1111111111111111 0.1111111111111111"/>
            </geometry>
        </visual>
        <collision>
            <origin xyz="0 0 0" rpy="0 0 0"/>
            <geometry>
                <box size="0.002 0.1111111111111111 0.1111111111111111"/>
            </geometry>
        </collision>
    </link>


    <!-- Joint: body, body_square_6 -->
    <joint name="body_body_square_6_joint" type="fixed"> 
        <parent link="body"/> 
        <child link="body_square_6"/> 
        <origin xyz="0.501 0.11111111111111116 -0.2222222222222222" rpy="0 0 0"/> 
        <axis xyz="0 0 1"/> 
    </joint>


    <!-- body_square_7 -->
    <link name="body_square_7">
        <inertial>
            <origin xyz="0 0 0" rpy="0 0 0"/>
            <mass value="0"/>
            <inertia ixx=".1" ixy=".1" ixz=".1" iyy=".1" iyz=".1" izz=".1"/>
        </inertial>
        <visual>
            <origin xyz="0 0 0" rpy="0 0 0"/>
            <geometry>
                <box size="0.002 0.1111111111111111 0.1111111111111111"/>
            </geometry>
        </visual>
        <collision>
            <origin xyz="0 0 0" rpy="0 0 0"/>
            <geometry>
                <box size="0.002 0.1111111111111111 0.1111111111111111"/>
            </geometry>
        </collision>
    </link>


    <!-- Joint: body, body_square_7 -->
    <joint name="body_body_square_7_joint" type="fixed"> 
        <parent link="body"/> 
        <child link="body_square_7"/> 
        <origin xyz="0.501 0.2222222222222222 0.2222222222222222" rpy="0 0 0"/> 
        <axis xyz="0 0 1"/> 
    </joint>


    <!-- body_square_8 -->
    <link name="body_square_8">
        <inertial>
            <origin xyz="0 0 0" rpy="0 0 0"/>
            <mass value="0"/>
            <inertia ixx=".1" ixy=".1" ixz=".1" iyy=".1" iyz=".1" izz=".1"/>
        </inertial>
        <visual>
            <origin xyz="0 0 0" rpy="0 0 0"/>
            <geometry>
                <box size="0.002 0.1111111111111111 0.1111111111111111"/>
            </geometry>
        </visual>
        <collision>
            <origin xyz="0 0 0" rpy="0 0 0"/>
            <geometry>
                <box size="0.002 0.1111111111111111 0.1111111111111111"/>
            </geometry>
        </collision>
    </link>


    <!-- Joint: body, body_square_8 -->
    <joint name="body_body_square_8_joint" type="fixed"> 
        <parent link="body"/> 
        <child link="body_square_8"/> 
        <origin xyz="0.501 0.33333333333333337 0.11111111111111116" rpy="0 0 0"/> 
        <axis xyz="0 0 1"/> 
    </joint>


    <!-- body_square_9 -->
    <link name="body_square_9">
        <inertial>
            <origin xyz="0 0 0" rpy="0 0 0"/>
            <mass value="0"/>
            <inertia ixx=".1" ixy=".1" ixz=".1" iyy=".1" iyz=".1" izz=".1"/>
        </inertial>
        <visual>
            <origin xyz="0 0 0" rpy="0 0 0"/>
            <geometry>
                <box size="0.1111111111111111 0.1111111111111111 0.002"/>
            </geometry>
        </visual>
        <collision>
            <origin xyz="0 0 0" rpy="0 0 0"/>
            <geometry>
                <box size="0.1111111111111111 0.1111111111111111 0.002"/>
            </geometry>
        </collision>
    </link>


    <!-- Joint: body, body_square_9 -->
    <joint name="body_body_square_9_joint" type="fixed"> 
        <parent link="body"/> 
        <child link="body_square_9"/> 
        <origin xyz="0.11111111111111116 -0.2222222222222222 0.501" rpy="0 0 0"/> 
        <axis xyz="0 0 1"/> 
    </joint>


    <!-- body_square_10 -->
    <link name="body_square_10">
        <inertial>
            <origin xyz="0 0 0" rpy="0 0 0"/>
            <mass value="0"/>
            <inertia ixx=".1" ixy=".1" ixz=".1" iyy=".1" iyz=".1" izz=".1"/>
        </inertial>
        <visual>
            <origin xyz="0 0 0" rpy="0 0 0"/>
            <geometry>
                <box size="0.1111111111111111 0.1111111111111111 0.002"/>
            </geometry>
        </visual>
        <collision>
            <origin xyz="0 0 0" rpy="0 0 0"/>
            <geometry>
                <box size="0.1111111111111111 0.1111111111111111 0.002"/>
            </geometry>
        </collision>
    </link>


    <!-- Joint: body, body_square_10 -->
    <joint name="body_body_square_10_joint" type="fixed"> 
        <parent link="body"/> 
        <child link="body_square_10"/> 
        <origin xyz="0.11111111111111116 -0.1111111111111111 0.501" rpy="0 0 0"/> 
        <axis xyz="0 0 1"/> 
    </joint>


    <!-- body_square_11 -->
    <link name="body_square_11">
        <inertial>
            <origin xyz="0 0 0" rpy="0 0 0"/>
            <mass value="0"/>
            <inertia ixx=".1" ixy=".1" ixz=".1" iyy=".1" iyz=".1" izz=".1"/>
        </inertial>
        <visual>
            <origin xyz="0 0 0" rpy="0 0 0"/>
            <geometry>
                <box size="0.1111111111111111 0.1111111111111111 0.002"/>
            </geometry>
        </visual>
        <collision>
            <origin xyz="0 0 0" rpy="0 0 0"/>
            <geometry>
                <box size="0.1111111111111111 0.1111111111111111 0.002"/>
            </geometry>
        </collision>
    </link>


    <!-- Joint: body, body_square_11 -->
    <joint name="body_body_square_11_joint" type="fixed"> 
        <parent link="body"/> 
        <child link="body_square_11"/> 
        <origin xyz="0.2222222222222222 -0.1111111111111111 0.501" rpy="0 0 0"/> 
        <axis xyz="0 0 1"/> 
    </joint>


    <!-- body_square_12 -->
    <link name="body_square_12">
        <inertial>
            <origin xyz="0 0 0" rpy="0 0 0"/>
            <mass value="0"/>
            <inertia ixx=".1" ixy=".1" ixz=".1" iyy=".1" iyz=".1" izz=".1"/>
        </inertial>
        <visual>
            <origin xyz="0 0 0" rpy="0 0 0"/>
            <geometry>
                <box size="0.1111111111111111 0.1111111111111111 0.002"/>
            </geometry>
        </visual>
        <collision>
            <origin xyz="0 0 0" rpy="0 0 0"/>
            <geometry>
                <box size="0.1111111111111111 0.1111111111111111 0.002"/>
            </geometry>
        </collision>
    </link>


    <!-- Joint: body, body_square_12 -->
    <joint name="body_body_square_12_joint" type="fixed"> 
        <parent link="body"/> 
        <child link="body_square_12"/> 
        <origin xyz="-0.33333333333333337 0.0 0.501" rpy="0 0 0"/> 
        <axis xyz="0 0 1"/> 
    </joint>


    <!-- body_square_13 -->
    <link name="body_square_13">
        <inertial>
            <origin xyz="0 0 0" rpy="0 0 0"/>
            <mass value="0"/>
            <inertia ixx=".1" ixy=".1" ixz=".1" iyy=".1" iyz=".1" izz=".1"/>
        </inertial>
        <visual>
            <origin xyz="0 0 0" rpy="0 0 0"/>
            <geometry>
                <box size="0.1111111111111111 0.1111111111111111 0.002"/>
            </geometry>
        </visual>
        <collision>
            <origin xyz="0 0 0" rpy="0 0 0"/>
            <geometry>
                <box size="0.1111111111111111 0.1111111111111111 0.002"/>
            </geometry>
        </collision>
    </link>


    <!-- Joint: body, body_square_13 -->
    <joint name="body_body_square_13_joint" type="fixed"> 
        <parent link="body"/> 
        <child link="body_square_13"/> 
        <origin xyz="-0.2222222222222222 0.0 0.501" rpy="0 0 0"/> 
        <axis xyz="0 0 1"/> 
    </joint>


    <!-- body_square_14 -->
    <link name="body_square_14">
        <inertial>
            <origin xyz="0 0 0" rpy="0 0 0"/>
            <mass value="0"/>
            <inertia ixx=".1" ixy=".1" ixz=".1" iyy=".1" iyz=".1" izz=".1"/>
        </inertial>
        <visual>
            <origin xyz="0 0 0" rpy="0 0 0"/>
            <geometry>
                <box size="0.1111111111111111 0.1111111111111111 0.002"/>
            </geometry>
        </visual>
        <collision>
            <origin xyz="0 0 0" rpy="0 0 0"/>
            <geometry>
                <box size="0.1111111111111111 0.1111111111111111 0.002"/>
            </geometry>
        </collision>
    </link>


    <!-- Joint: body, body_square_14 -->
    <joint name="body_body_square_14_joint" type="fixed"> 
        <parent link="body"/> 
        <child link="body_square_14"/> 
        <origin xyz="-0.1111111111111111 0.0 0.501" rpy="0 0 0"/> 
        <axis xyz="0 0 1"/> 
    </joint>


    <!-- body_square_15 -->
    <link name="body_square_15">
        <inertial>
            <origin xyz="0 0 0" rpy="0 0 0"/>
            <mass value="0"/>
            <inertia ixx=".1" ixy=".1" ixz=".1" iyy=".1" iyz=".1" izz=".1"/>
        </inertial>
        <visual>
            <origin xyz="0 0 0" rpy="0 0 0"/>
            <geometry>
                <box size="0.1111111111111111 0.1111111111111111 0.002"/>
            </geometry>
        </visual>
        <collision>
            <origin xyz="0 0 0" rpy="0 0 0"/>
            <geometry>
                <box size="0.1111111111111111 0.1111111111111111 0.002"/>
            </geometry>
        </collision>
    </link>


    <!-- Joint: body, body_square_15 -->
    <joint name="body_body_square_15_joint" type="fixed"> 
        <parent link="body"/> 
        <child link="body_square_15"/> 
        <origin xyz="0.0 0.0 0.501" rpy="0 0 0"/> 
        <axis xyz="0 0 1"/> 
    </joint>


    <!-- body_square_16 -->
    <link name="body_square_16">
        <inertial>
            <origin xyz="0 0 0" rpy="0 0 0"/>
            <mass value="0"/>
            <inertia ixx=".1" ixy=".1" ixz=".1" iyy=".1" iyz=".1" izz=".1"/>
        </inertial>
        <visual>
            <origin xyz="0 0 0" rpy="0 0 0"/>
            <geometry>
                <box size="0.1111111111111111 0.1111111111111111 0.002"/>
            </geometry>
        </visual>
        <collision>
            <origin xyz="0 0 0" rpy="0 0 0"/>
            <geometry>
                <box size="0.1111111111111111 0.1111111111111111 0.002"/>
            </geometry>
        </collision>
    </link>


    <!-- Joint: body, body_square_16 -->
    <joint name="body_body_square_16_joint" type="fixed"> 
        <parent link="body"/> 
        <child link="body_square_16"/> 
        <origin xyz="0.11111111111111116 0.0 0.501" rpy="0 0 0"/> 
        <axis xyz="0 0 1"/> 
    </joint>


    <!-- body_square_17 -->
    <link name="body_square_17">
        <inertial>
            <origin xyz="0 0 0" rpy="0 0 0"/>
            <mass value="0"/>
            <inertia ixx=".1" ixy=".1" ixz=".1" iyy=".1" iyz=".1" izz=".1"/>
        </inertial>
        <visual>
            <origin xyz="0 0 0" rpy="0 0 0"/>
            <geometry>
                <box size="0.1111111111111111 0.1111111111111111 0.002"/>
            </geometry>
        </visual>
        <collision>
            <origin xyz="0 0 0" rpy="0 0 0"/>
            <geometry>
                <box size="0.1111111111111111 0.1111111111111111 0.002"/>
            </geometry>
        </collision>
    </link>


    <!-- Joint: body, body_square_17 -->
    <joint name="body_body_square_17_joint" type="fixed"> 
        <parent link="body"/> 
        <child link="body_square_17"/> 
        <origin xyz="0.2222222222222222 0.0 0.501" rpy="0 0 0"/> 
        <axis xyz="0 0 1"/> 
    </joint>


    <!-- body_square_18 -->
    <link name="body_square_18">
        <inertial>
            <origin xyz="0 0 0" rpy="0 0 0"/>
            <mass value="0"/>
            <inertia ixx=".1" ixy=".1" ixz=".1" iyy=".1" iyz=".1" izz=".1"/>
        </inertial>
        <visual>
            <origin xyz="0 0 0" rpy="0 0 0"/>
            <geometry>
                <box size="0.1111111111111111 0.1111111111111111 0.002"/>
            </geometry>
        </visual>
        <collision>
            <origin xyz="0 0 0" rpy="0 0 0"/>
            <geometry>
                <box size="0.1111111111111111 0.1111111111111111 0.002"/>
            </geometry>
        </collision>
    </link>


    <!-- Joint: body, body_square_18 -->
    <joint name="body_body_square_18_joint" type="fixed"> 
        <parent link="body"/> 
        <child link="body_square_18"/> 
        <origin xyz="0.33333333333333337 0.0 0.501" rpy="0 0 0"/> 
        <axis xyz="0 0 1"/> 
    </joint>


    <!-- body_square_19 -->
    <link name="body_square_19">
        <inertial>
            <origin xyz="0 0 0" rpy="0 0 0"/>
            <mass value="0"/>
            <inertia ixx=".1" ixy=".1" ixz=".1" iyy=".1" iyz=".1" izz=".1"/>
        </inertial>
        <visual>
            <origin xyz="0 0 0" rpy="0 0 0"/>
            <geometry>
                <box size="0.1111111111111111 0.1111111111111111 0.002"/>
            </geometry>
        </visual>
        <collision>
            <origin xyz="0 0 0" rpy="0 0 0"/>
            <geometry>
                <box size="0.1111111111111111 0.1111111111111111 0.002"/>
            </geometry>
        </collision>
    </link>


    <!-- Joint: body, body_square_19 -->
    <joint name="body_body_square_19_joint" type="fixed"> 
        <parent link="body"/> 
        <child link="body_square_19"/> 
        <origin xyz="0.11111111111111116 0.11111111111111116 0.501" rpy="0 0 0"/> 
        <axis xyz="0 0 1"/> 
    </joint>


    <!-- body_square_20 -->
    <link name="body_square_20">
        <inertial>
            <origin xyz="0 0 0" rpy="0 0 0"/>
            <mass value="0"/>
            <inertia ixx=".1" ixy=".1" ixz=".1" iyy=".1" iyz=".1" izz=".1"/>
        </inertial>
        <visual>
            <origin xyz="0 0 0" rpy="0 0 0"/>
            <geometry>
                <box size="0.1111111111111111 0.1111111111111111 0.002"/>
            </geometry>
        </visual>
        <collision>
            <origin xyz="0 0 0" rpy="0 0 0"/>
            <geometry>
                <box size="0.1111111111111111 0.1111111111111111 0.002"/>
            </geometry>
        </collision>
    </link>


    <!-- Joint: body, body_square_20 -->
    <joint name="body_body_square_20_joint" type="fixed"> 
        <parent link="body"/> 
        <child link="body_square_20"/> 
        <origin xyz="0.2222222222222222 0.11111111111111116 0.501" rpy="0 0 0"/> 
        <axis xyz="0 0 1"/> 
    </joint>


    <!-- body_square_21 -->
    <link name="body_square_21">
        <inertial>
            <origin xyz="0 0 0" rpy="0 0 0"/>
            <mass value="0"/>
            <inertia ixx=".1" ixy=".1" ixz=".1" iyy=".1" iyz=".1" izz=".1"/>
        </inertial>
        <visual>
            <origin xyz="0 0 0" rpy="0 0 0"/>
            <geometry>
                <box size="0.1111111111111111 0.1111111111111111 0.002"/>
            </geometry>
        </visual>
        <collision>
            <origin xyz="0 0 0" rpy="0 0 0"/>
            <geometry>
                <box size="0.1111111111111111 0.1111111111111111 0.002"/>
            </geometry>
        </collision>
    </link>


    <!-- Joint: body, body_square_21 -->
    <joint name="body_body_square_21_joint" type="fixed"> 
        <parent link="body"/> 
        <child link="body_square_21"/> 
        <origin xyz="0.11111111111111116 0.2222222222222222 0.501" rpy="0 0 0"/> 
        <axis xyz="0 0 1"/> 
    </joint>


</robot>
